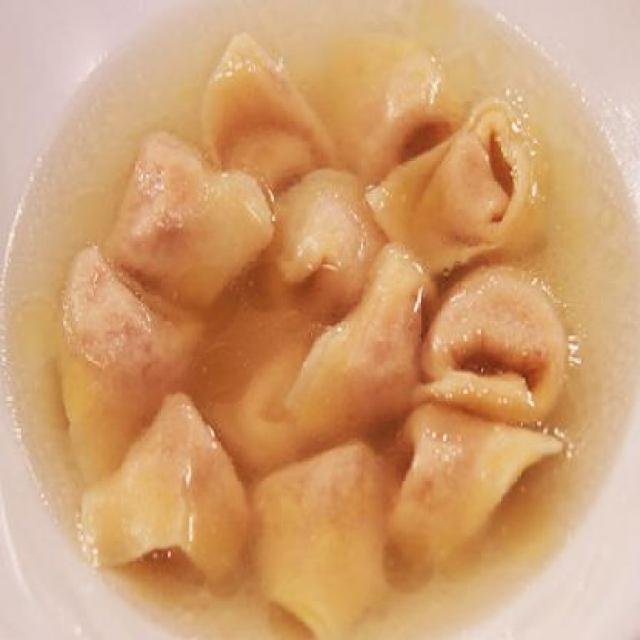Tortellini in broth: (86, 61, 600, 566)
